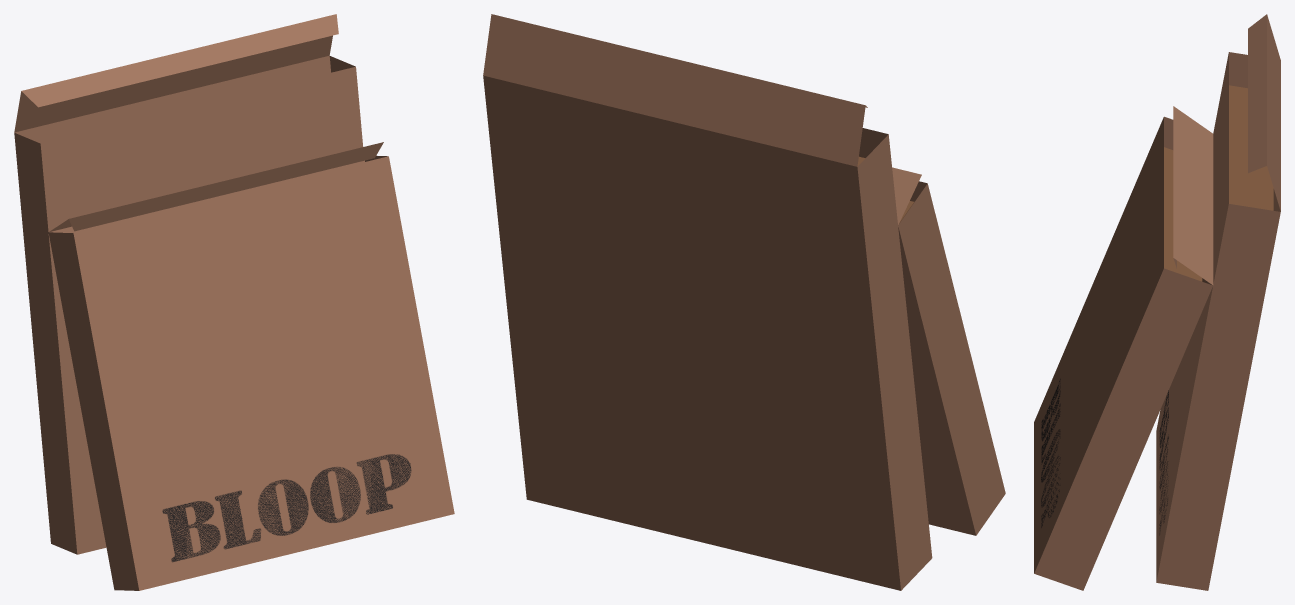
File: 123_bloop_boxes.glb
3 renders of one model, left to right at view 1: azimuth 30°, elevation 25°; view 2: azimuth 150°, elevation 25°; view 3: azimuth 270°, elevation 25°, orthographic. The views are drawn at different scales.
Parts seen in each view (by area): view 1: box front, box back; view 2: box back, box front; view 3: box front, box back.
Part boxes in pixels (left/top/right/bottom): box front: left=48, top=142, right=454, bottom=590; box back: left=14, top=14, right=363, bottom=554; box back: left=483, top=14, right=932, bottom=590; box front: left=892, top=167, right=1005, bottom=535; box front: left=1034, top=106, right=1213, bottom=590; box back: left=1156, top=14, right=1280, bottom=590.
Bounding box in the file's own units: 1.09 × 1.42 × 0.7483.
3 materials, 1 textured.
